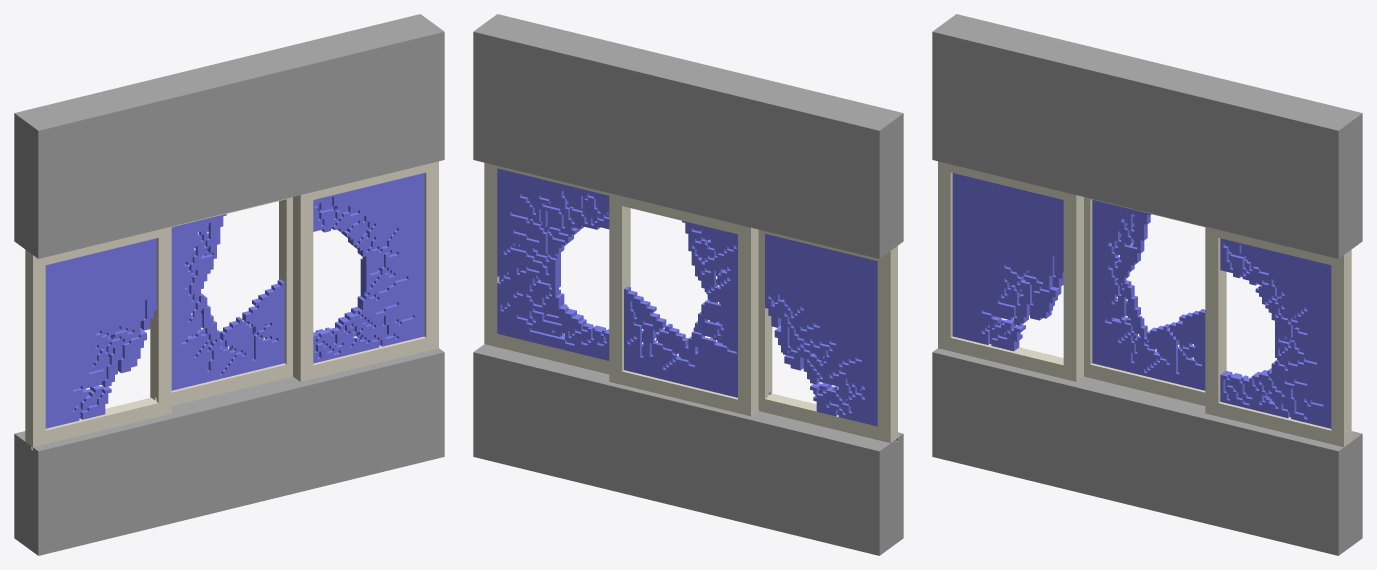
The model's file is Operating_room_Window3-1-2.fbx.
3 renders of one model, left to right at view 1: azimuth 30°, elevation 25°; view 2: azimuth 150°, elevation 25°; view 3: azimuth 330°, elevation 25°, orthographic.
Parts seen in each view (by area): view 1: Operating room Window3-1-2.002, Operating room Window3-1-2.000, Operating room Window3-1-2.003, Operating room Window3-1-2.008, Operating room Window3-1-2.005, Operating room Window3-1-2.001, Operating room Window3-1-2.006, Operating room Window3-1-2.004; view 2: Operating room Window3-1-2.002, Operating room Window3-1-2.000, Operating room Window3-1-2.003, Operating room Window3-1-2.008, Operating room Window3-1-2.005, Operating room Window3-1-2.004, Operating room Window3-1-2.001, Operating room Window3-1-2.006; view 3: Operating room Window3-1-2.002, Operating room Window3-1-2.000, Operating room Window3-1-2.003, Operating room Window3-1-2.008, Operating room Window3-1-2.005, Operating room Window3-1-2.006, Operating room Window3-1-2.001, Operating room Window3-1-2.004.
Part boxes in pixels (box(x1,y1,x2,y2)): Operating room Window3-1-2.002: box(14, 14, 444, 258); Operating room Window3-1-2.000: box(14, 348, 444, 555); Operating room Window3-1-2.003: box(45, 238, 156, 428); Operating room Window3-1-2.008: box(313, 173, 424, 363); Operating room Window3-1-2.005: box(171, 214, 284, 390); Operating room Window3-1-2.001: box(25, 226, 171, 446); Operating room Window3-1-2.006: box(293, 161, 438, 381); Operating room Window3-1-2.004: box(150, 197, 292, 405); Operating room Window3-1-2.002: box(473, 14, 903, 258); Operating room Window3-1-2.000: box(473, 344, 903, 555); Operating room Window3-1-2.003: box(765, 234, 877, 426); Operating room Window3-1-2.008: box(497, 168, 609, 360); Operating room Window3-1-2.005: box(624, 221, 737, 397); Operating room Window3-1-2.004: box(609, 193, 758, 416); Operating room Window3-1-2.001: box(758, 229, 897, 442); Operating room Window3-1-2.006: box(484, 162, 630, 374); Operating room Window3-1-2.002: box(932, 14, 1362, 258); Operating room Window3-1-2.000: box(932, 348, 1362, 555); Operating room Window3-1-2.003: box(952, 173, 1063, 351); Operating room Window3-1-2.008: box(1220, 238, 1331, 428); Operating room Window3-1-2.005: box(1092, 200, 1205, 390); Operating room Window3-1-2.006: box(1205, 226, 1351, 446); Operating room Window3-1-2.001: box(938, 161, 1083, 381); Operating room Window3-1-2.004: box(1084, 197, 1226, 405).
Size of the model in its own units: 12.6 by 12.6 by 1.3.
